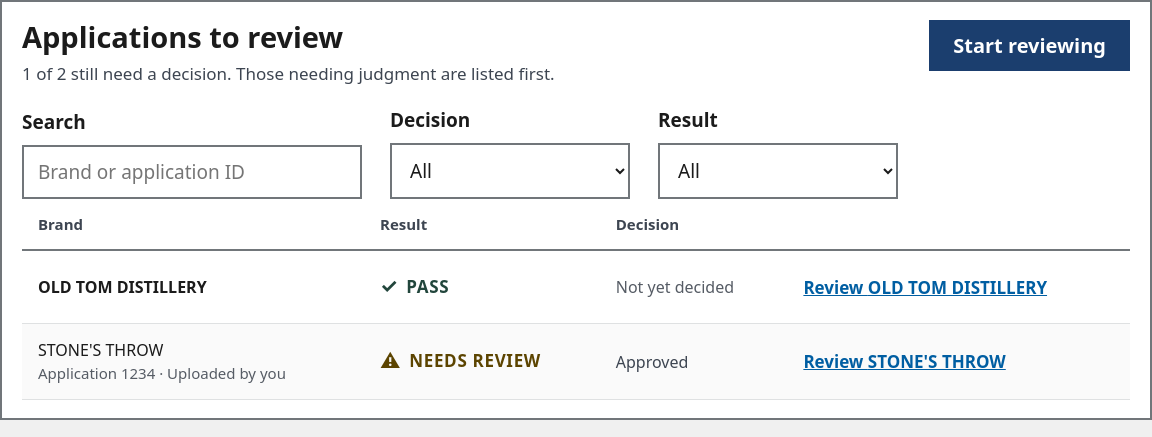
Test: The queue is searchable and filterable › finds an upload by the application ID the agent declared
Expected: the column heading "OLD TOM DISTILLERY" is shown, [22,251,364,324]
Type "1234" into the search field labelled "Search" at (192, 172), box [22,145,362,199]
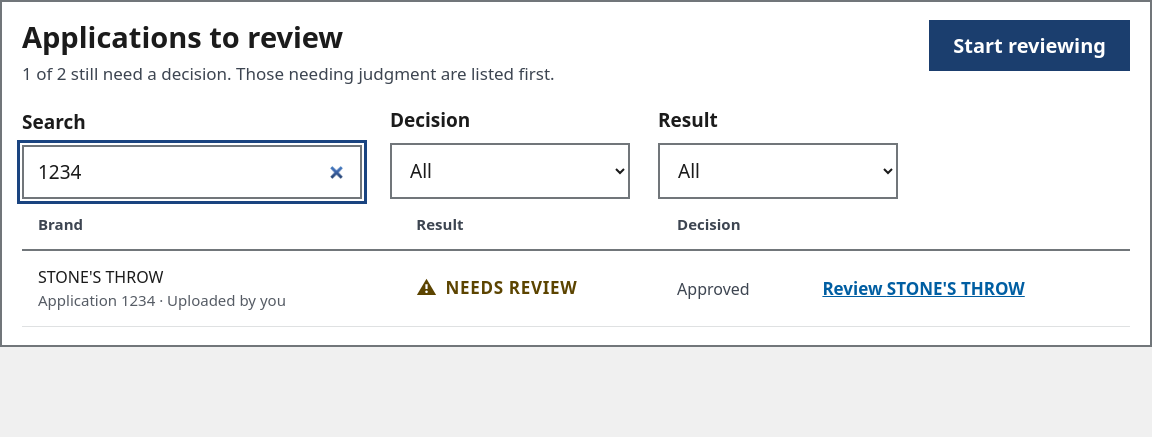
Expected: the column heading "STONE'S THROW" is shown, [38,266,163,288]
Expected: the column heading "OLD TOM DISTILLERY" is gone
